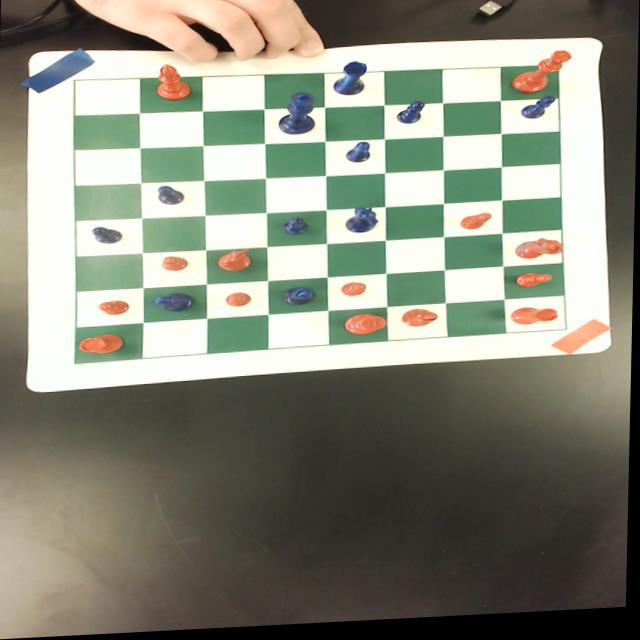B: (283, 289, 317, 310)
K: (276, 96, 316, 139)
N: (147, 294, 196, 315), (343, 210, 379, 238)
P: (520, 101, 556, 125), (87, 226, 123, 247), (396, 105, 426, 129), (156, 186, 187, 207), (345, 145, 372, 168), (282, 220, 308, 239)
R: (332, 63, 369, 100)
b: (154, 65, 192, 104), (402, 312, 439, 332)
k: (344, 317, 388, 340)
n: (515, 243, 565, 267), (217, 250, 253, 275)
p: (514, 278, 553, 294), (99, 301, 129, 318), (462, 218, 492, 235), (163, 257, 189, 274), (226, 294, 253, 310), (341, 286, 367, 301)
q: (509, 55, 572, 100)
r: (78, 335, 125, 357), (512, 311, 560, 332)
